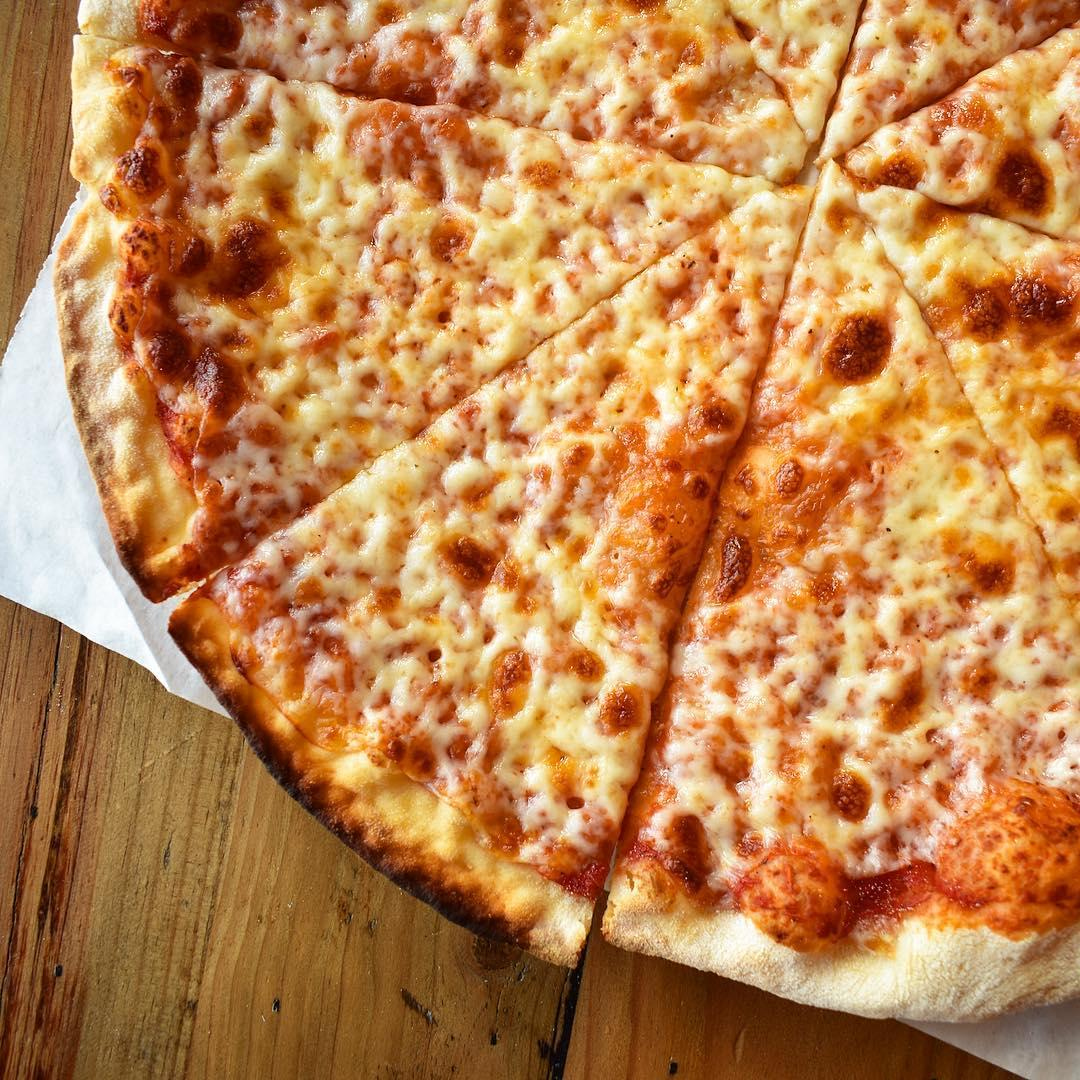Pizza: (72, 0, 1080, 1028)
